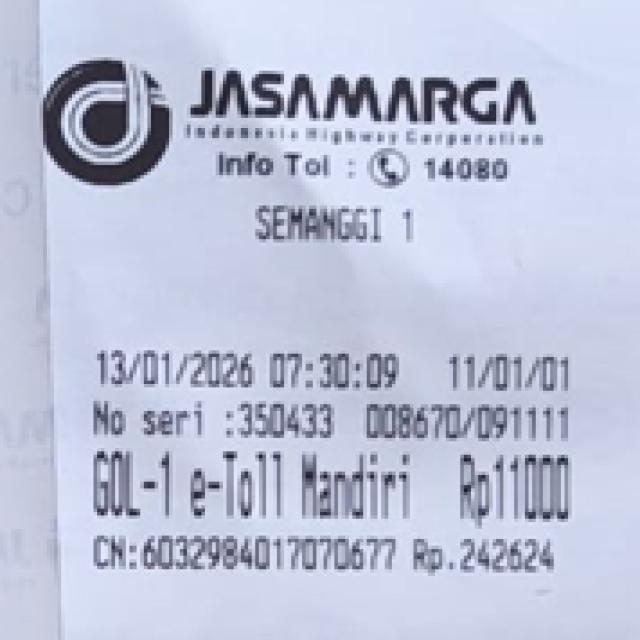date: (89, 341, 407, 388)
store: (190, 58, 549, 139)
total: (442, 448, 582, 522)
